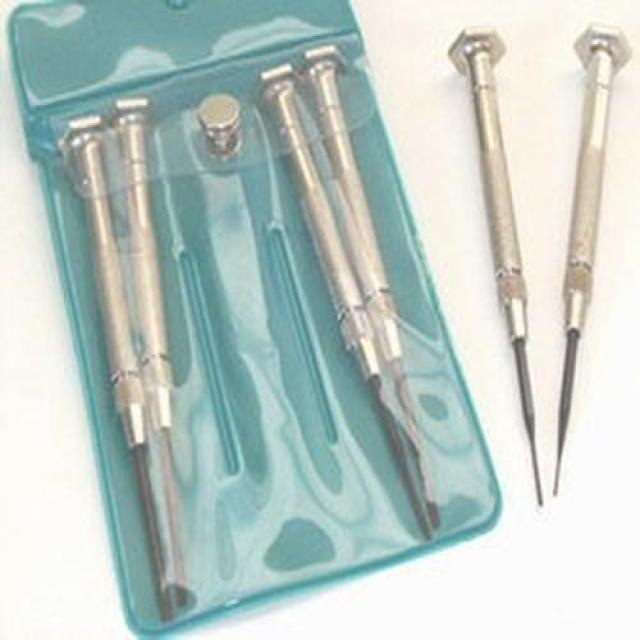screw driver: (441, 11, 552, 508), (544, 7, 640, 526)
